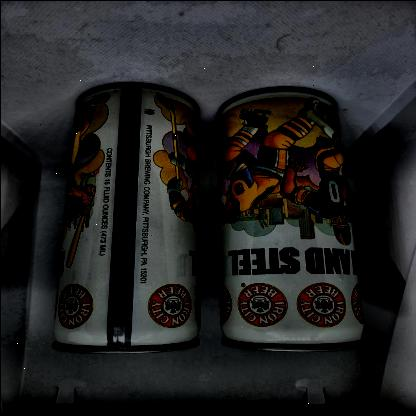Can: (212, 82, 368, 352), (50, 81, 200, 354)
